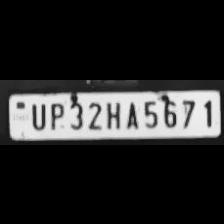1: (196, 96, 216, 128)
2: (84, 98, 102, 130)
3: (66, 98, 82, 130)
5: (140, 96, 158, 128)
6: (160, 96, 178, 128)
7: (178, 96, 198, 128)
A: (122, 97, 140, 128)
H: (103, 97, 121, 128)
P: (46, 98, 64, 130)
U: (27, 99, 47, 129)
